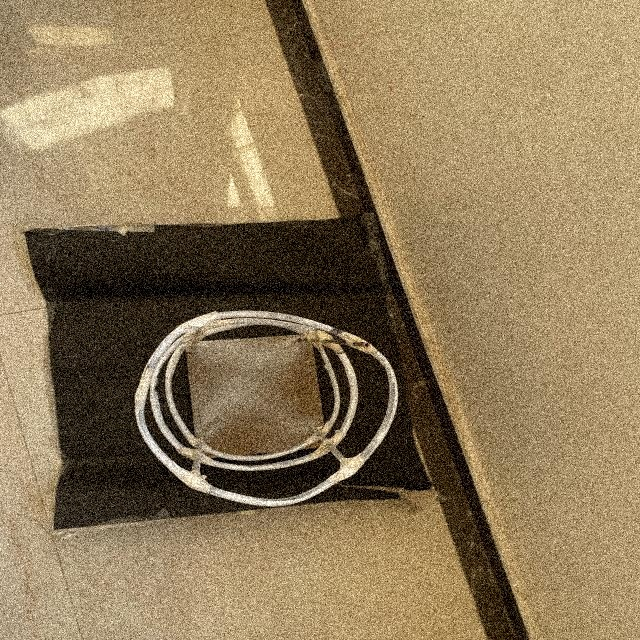silo: (140, 310, 400, 509)
